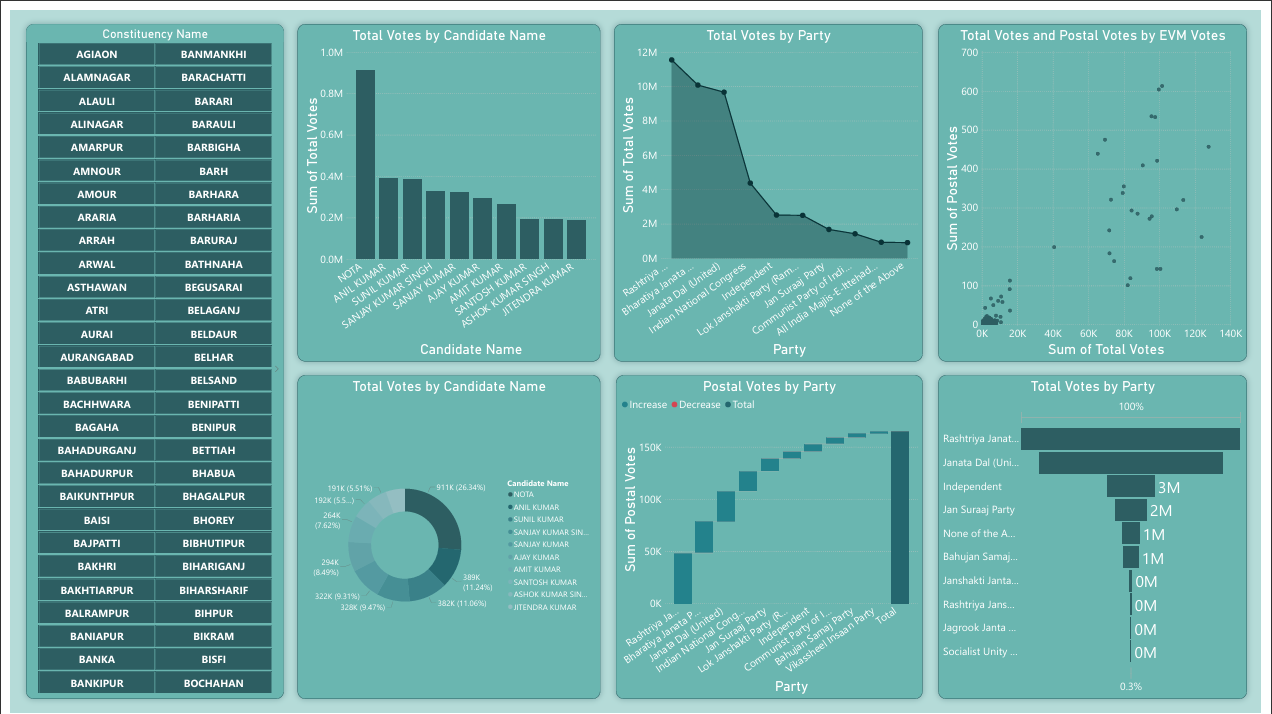

What the dashboard file says about the page in this screenshot:
{"tool":"powerbi","page":{"name":"Page 2","canvas":[3200,1800],"ordinal":1},"visuals":[{"type":"slicer","title":"Constituency Name","fields":{"Values":["bihar_election_results.Constituency Name"]},"box":[40,35,660,1730],"z":0},{"type":"waterfallChart","title":"Postal Votes by Party","fields":{"Category":["bihar_election_results.Party"],"Y":["Sum(bihar_election_results.Postal Votes)"]},"box":[1550,935,785,830],"z":1000},{"type":"areaChart","title":"Total Votes by Party","fields":{"Y":["Sum(bihar_election_results.Total Votes)"],"Category":["bihar_election_results.Party"]},"box":[1545,35,790,865],"z":2000},{"type":"donutChart","title":"Total Votes by Candidate Name","fields":{"Category":["bihar_election_results.Candidate Name"],"Y":["Sum(bihar_election_results.Total Votes)"]},"box":[735,935,775,830],"z":3000},{"type":"lineStackedColumnComboChart","title":"Total Votes by Candidate Name","fields":{"Category":["bihar_election_results.Candidate Name"],"Y":["Sum(bihar_election_results.Total Votes)"]},"box":[735,35,775,865],"z":4000},{"type":"funnel","title":"Total Votes by Party","fields":{"Category":["bihar_election_results.Party"],"Y":["Sum(bihar_election_results.Total Votes)"]},"box":[2375,935,790,830],"z":5000},{"type":"scatterChart","title":"Total Votes and Postal Votes by EVM Votes","fields":{"X":["Sum(bihar_election_results.Total Votes)"],"Y":["Sum(bihar_election_results.Postal Votes)"],"Category":["bihar_election_results.EVM Votes"]},"box":[2375,35,790,865],"z":6000}]}

Visuals, with their boxes in screenshot pixels (x1, y1, x2, y2), scaled from the page's 3200x1800 canvas onto the 1272x714 screenshot:
"Constituency Name" slicer: [16,14,278,700]
"Postal Votes by Party" waterfallChart: [616,371,928,700]
"Total Votes by Party" areaChart: [614,14,928,357]
"Total Votes by Candidate Name" donutChart: [292,371,600,700]
"Total Votes by Candidate Name" lineStackedColumnComboChart: [292,14,600,357]
"Total Votes by Party" funnel: [944,371,1258,700]
"Total Votes and Postal Votes by EVM Votes" scatterChart: [944,14,1258,357]
